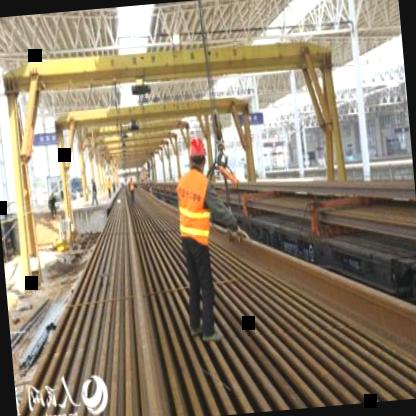helmet: (186, 134, 212, 175)
